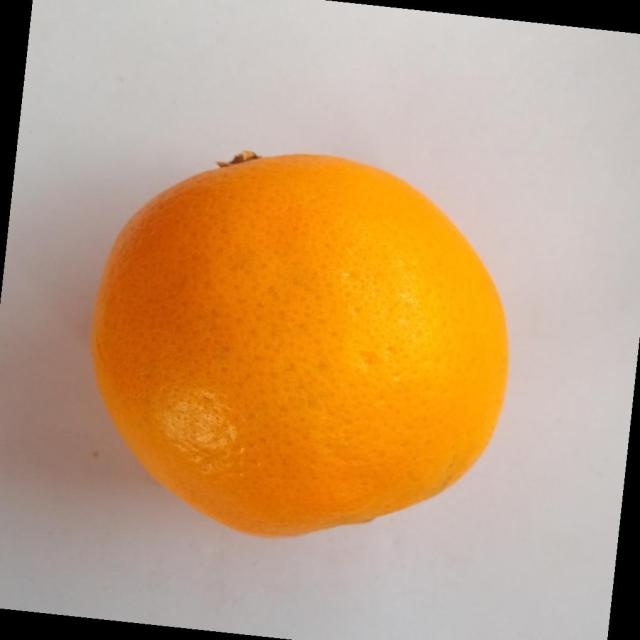agrume: (89, 149, 510, 538)
